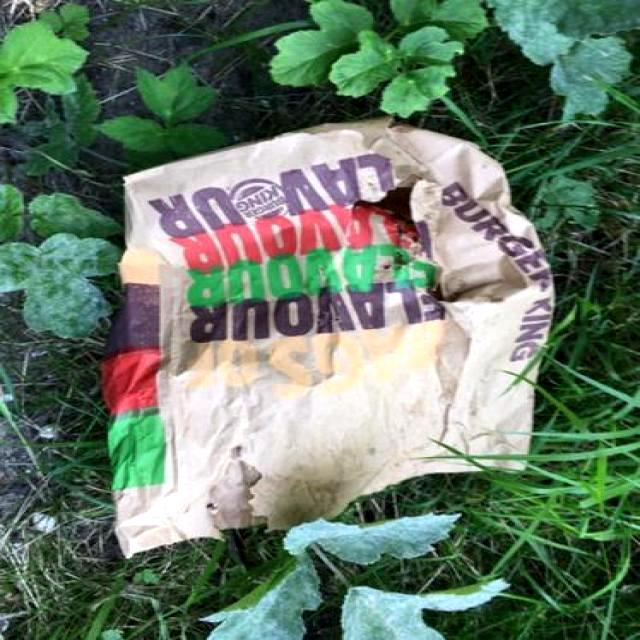Paper: (95, 115, 557, 562)
